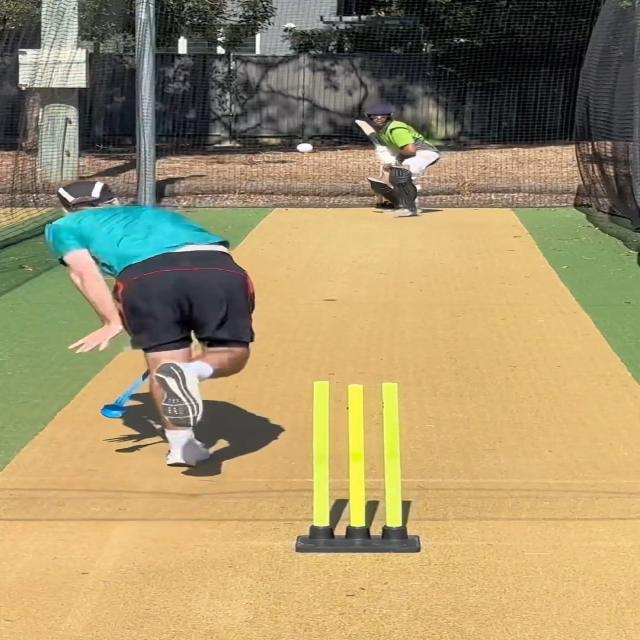ball: (294, 141, 317, 155)
stump: (289, 378, 421, 553)
